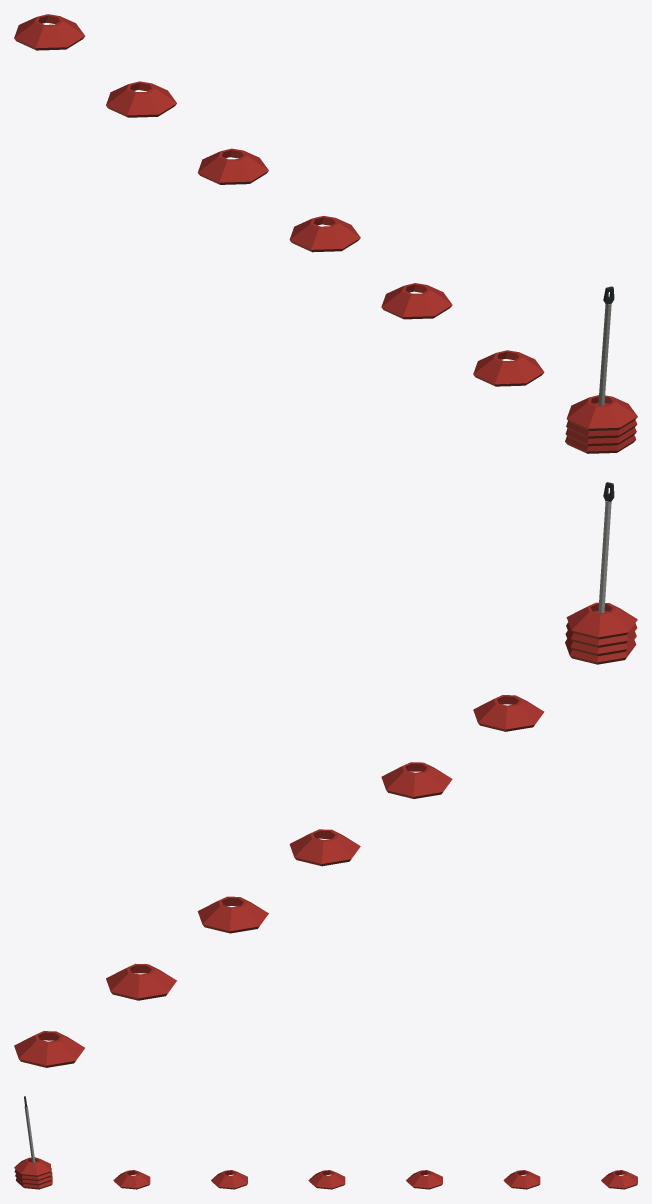
Rendered from marker-cone-set-8fab80.glb.
3 renders of one model, top to bottom at view 1: azimuth 30°, elevation 25°; view 2: azimuth 150°, elevation 25°; view 3: azimuth 270°, elevation 25°, orthographic. The views are drawn at different scales.
Visible parts, largest first — view 1: cones, spike-mesh; view 2: cones, spike-mesh; view 3: cones, spike-mesh.
Part boxes in pixels (x1=…): cones: x1=14, y1=14, x2=637, y2=453; spike-mesh: x1=598, y1=286, x2=614, y2=405; cones: x1=14, y1=602, x2=637, y2=1067; spike-mesh: x1=598, y1=482, x2=614, y2=613; cones: x1=14, y1=1157, x2=637, y2=1189; spike-mesh: x1=24, y1=1096, x2=35, y2=1162.
Size of the model in its own units: 0.195 by 0.48 by 3.2.
